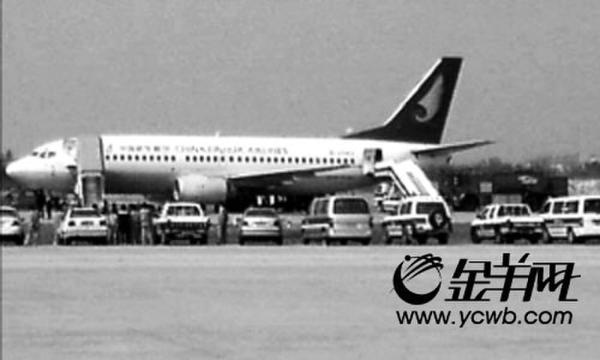airplane: (5, 50, 483, 197)
